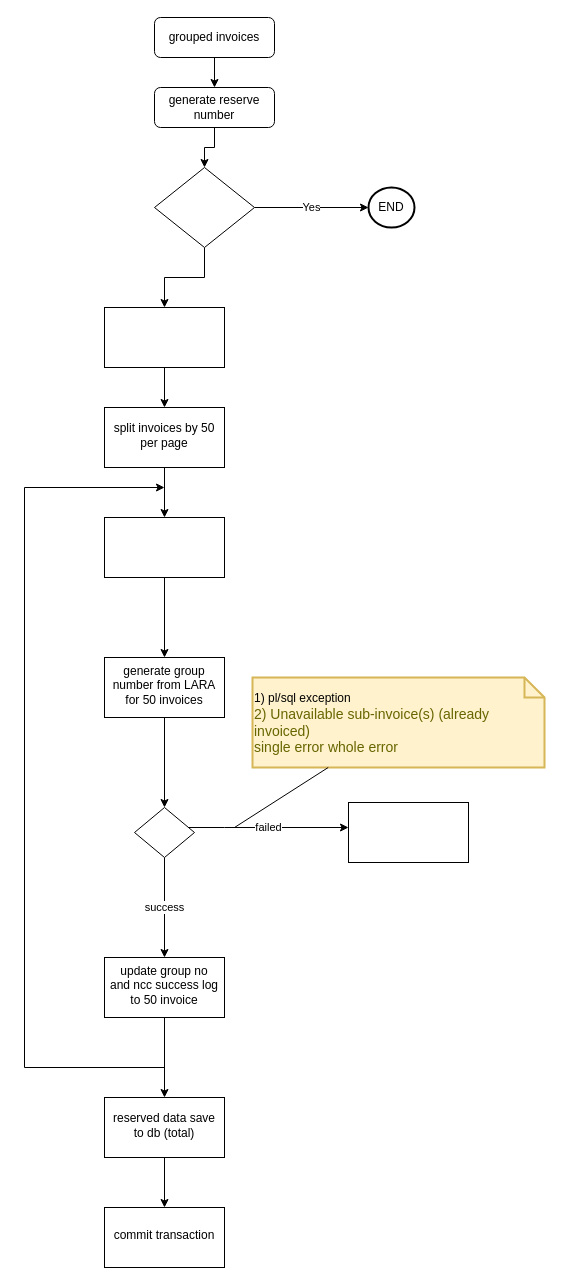
This 563x1285 diagram has some shape labels left out. Here are the shapes that lost their labels. From the top down, the centre of each, then its label:
At point (204, 207): "reserved".
At point (164, 337): "begin transaction".
At point (164, 547): "50 invoices".
At point (408, 832): "50 invoice ncc failed log to invoice_tracker".
